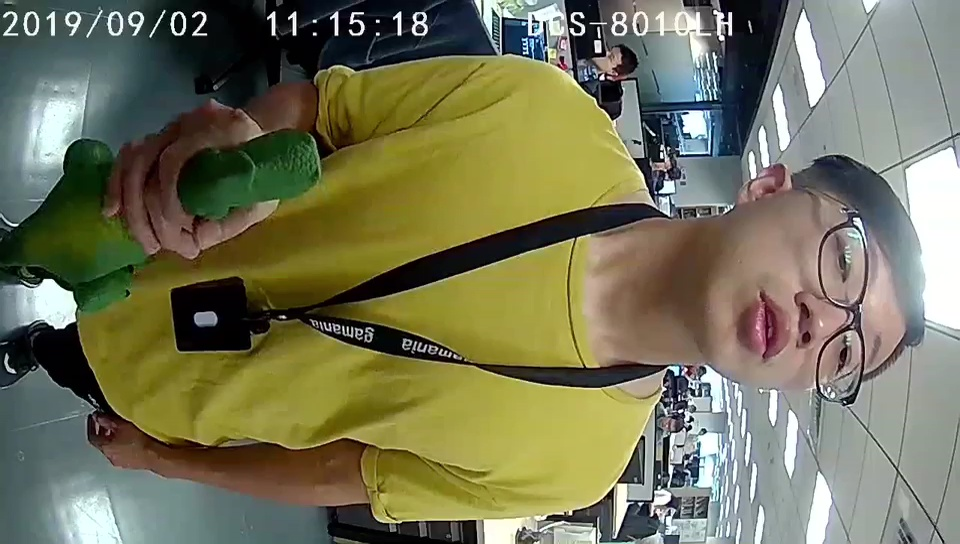rex: (60, 126, 323, 310)
